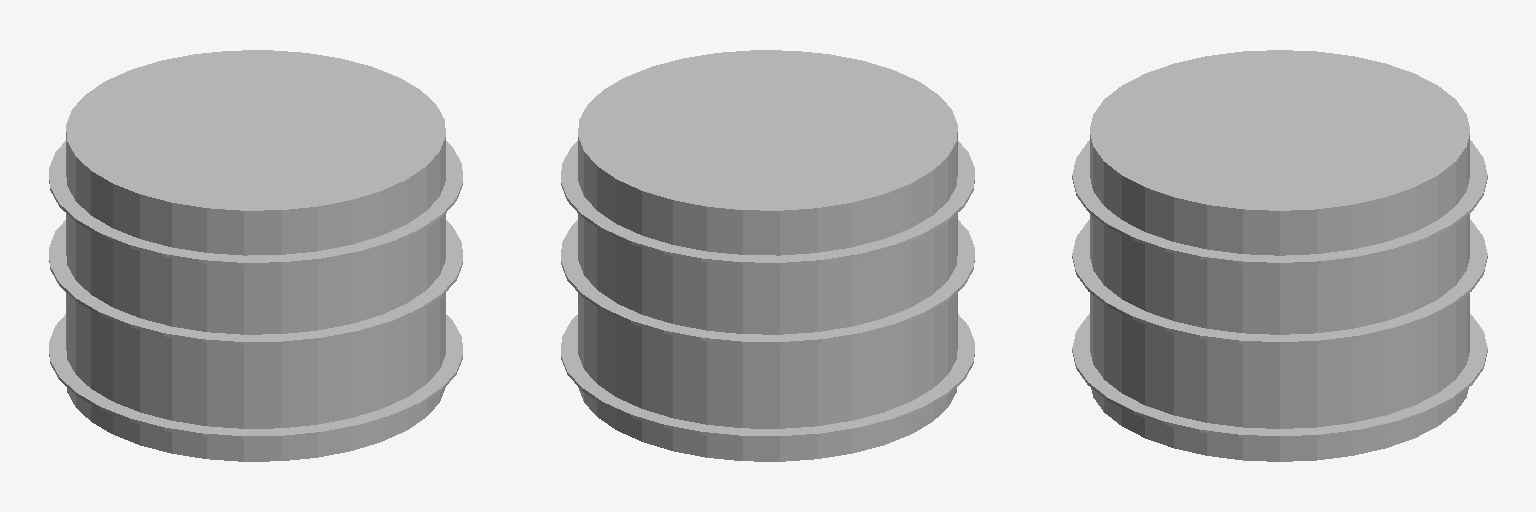
The model's file is Barrel.obj.
3 renders of one model, left to right at view 1: azimuth 30°, elevation 25°; view 2: azimuth 150°, elevation 25°; view 3: azimuth 270°, elevation 25°, orthographic.
Parts seen in each view (by area): view 1: Cylinder, Cylinder.001_Cylinder.003, Cylinder.003_Cylinder.006, Cylinder.002_Cylinder.005; view 2: Cylinder, Cylinder.001_Cylinder.003, Cylinder.003_Cylinder.006, Cylinder.002_Cylinder.005; view 3: Cylinder, Cylinder.001_Cylinder.003, Cylinder.003_Cylinder.006, Cylinder.002_Cylinder.005.
Boxes of the visible parts, <box> form: Cylinder: <box>66,50,445,461</box>; Cylinder.001_Cylinder.003: <box>49,141,462,265</box>; Cylinder.003_Cylinder.006: <box>49,220,462,344</box>; Cylinder.002_Cylinder.005: <box>49,314,462,438</box>; Cylinder: <box>578,50,957,461</box>; Cylinder.001_Cylinder.003: <box>561,141,974,265</box>; Cylinder.003_Cylinder.006: <box>561,220,974,344</box>; Cylinder.002_Cylinder.005: <box>561,314,974,438</box>; Cylinder: <box>1090,50,1469,461</box>; Cylinder.001_Cylinder.003: <box>1072,140,1487,265</box>; Cylinder.003_Cylinder.006: <box>1072,220,1487,344</box>; Cylinder.002_Cylinder.005: <box>1072,314,1487,439</box>.
Size of the model in its own units: 2.4 by 1.6 by 2.4.